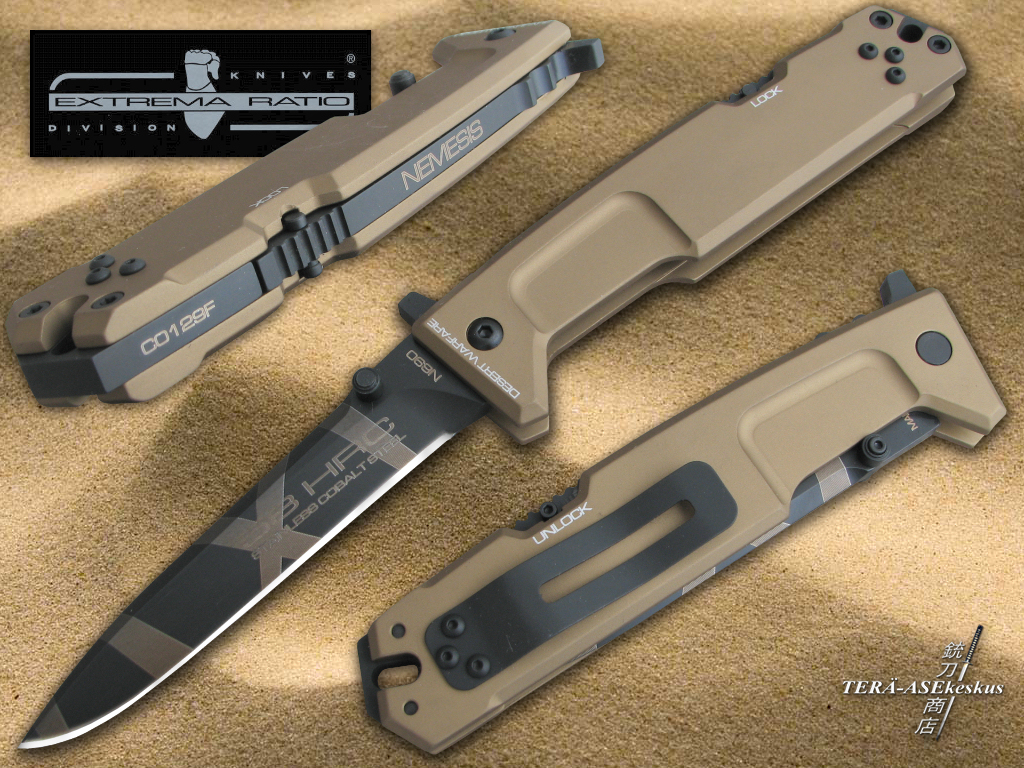knife: (8, 317, 495, 762)
